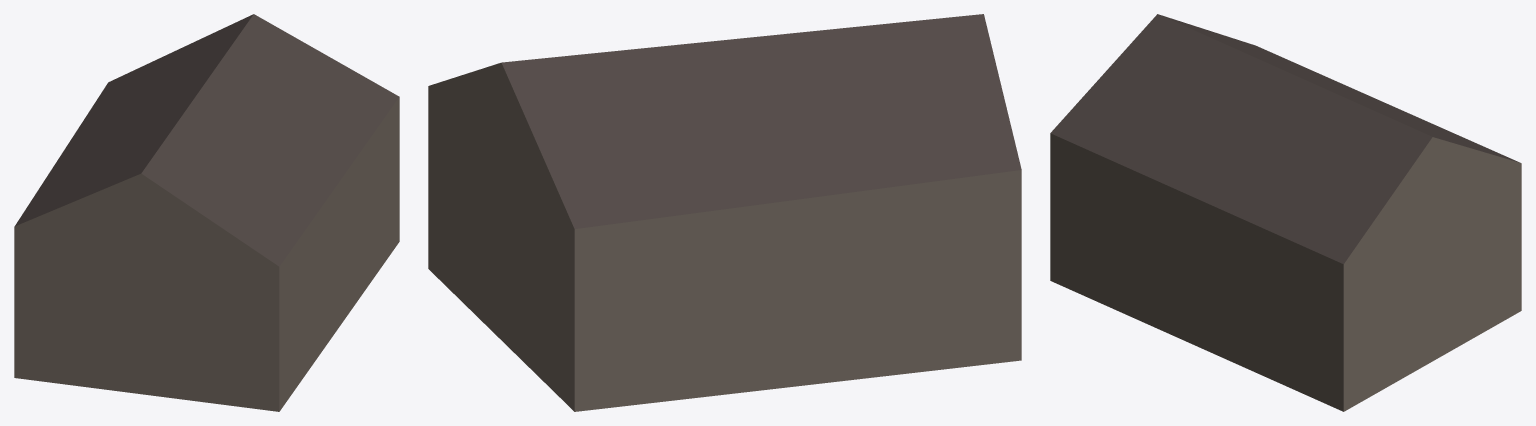
3 renders of one model, left to right at view 1: azimuth 30°, elevation 25°; view 2: azimuth 150°, elevation 25°; view 3: azimuth 270°, elevation 25°, orthographic. The views are drawn at different scales.
Parts seen in each view (by area): view 1: HP-w858807443; view 2: HP-w858807443; view 3: HP-w858807443.
Boxes of the visible parts, left/top/right/bottom form: HP-w858807443: left=14, top=14, right=399, bottom=411; HP-w858807443: left=428, top=14, right=1021, bottom=411; HP-w858807443: left=1050, top=14, right=1521, bottom=411.
Bounding box in the file's own units: 18.52 × 9.12 × 17.36.
